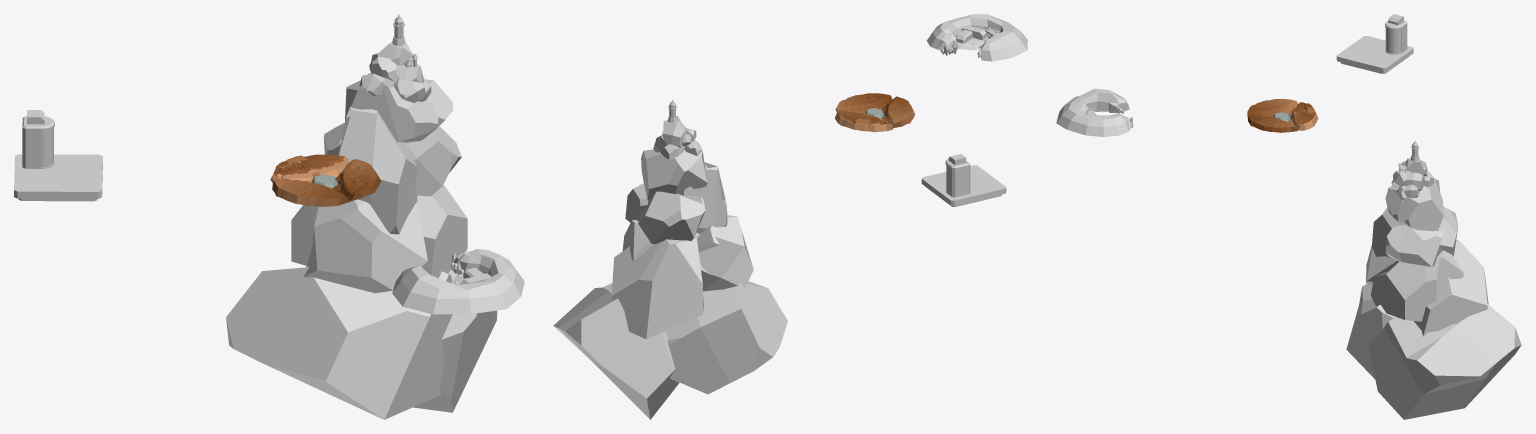
File: WORLD.glb
3 renders of one model, left to right at view 1: azimuth 30°, elevation 25°; view 2: azimuth 150°, elevation 25°; view 3: azimuth 270°, elevation 25°, orthographic. The views are drawn at different scales.
Visible parts, largest first — view 1: WORLD; view 2: WORLD; view 3: WORLD.
Boxes of the visible parts, bbox=[...] form: WORLD: bbox=[14, 14, 524, 419]; WORLD: bbox=[553, 14, 1027, 419]; WORLD: bbox=[1056, 14, 1521, 419].
Bounding box in the file's own units: 108 × 79.65 × 123.
Materials: 2 (1 with a texture image).
